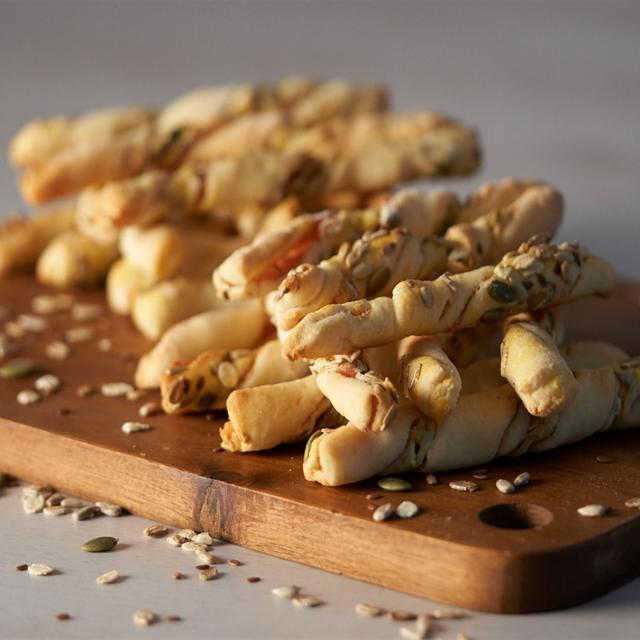Grissini: (17, 75, 621, 474)
